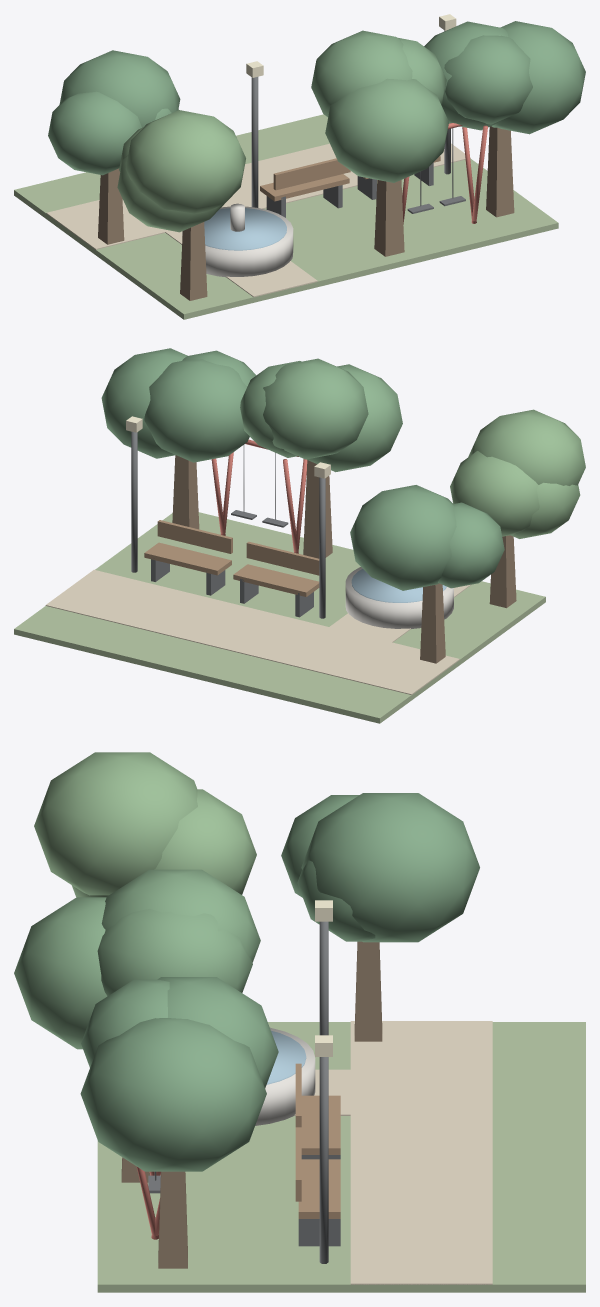
The model's file is salida.plaza.fbx.
The picture shows the model from 3 angles, top to bottom: view 1: azimuth 30°, elevation 25°; view 2: azimuth 150°, elevation 25°; view 3: azimuth 270°, elevation 25°; orthographic projection. The views are drawn at different scales.
Visible parts, largest first — view 1: Suelo, Copa.003, Copa.006, Copa.002, Copa.001, Copa.009, Camino, Copa.010, Copa.005, Pileta, Agua, Copa.007 (+13 smaller); view 2: Suelo, Camino, Copa.010, Copa, Copa.005, Copa.006, Copa.008, Copa.001, Copa.003, Copa.009, Pileta, Copa.004 (+15 smaller); view 3: Suelo, Camino, Copa.001, Copa.010, Copa.006, Copa.003, Copa.004, Copa.005, Copa.008, Copa, Copa.002, Camino.001 (+11 smaller).
Boxes of the visible parts, bbox=[...] form: Suelo: bbox=[14, 114, 558, 319]; Copa.003: bbox=[325, 78, 448, 182]; Copa.006: bbox=[125, 110, 245, 213]; Copa.002: bbox=[444, 35, 532, 124]; Copa.001: bbox=[491, 21, 585, 134]; Copa.009: bbox=[48, 91, 141, 175]; Camino: bbox=[46, 143, 470, 249]; Copa.010: bbox=[59, 50, 180, 127]; Copa.005: bbox=[311, 30, 412, 117]; Pileta: bbox=[182, 206, 293, 277]; Agua: bbox=[204, 208, 286, 250]; Copa.007: bbox=[117, 155, 224, 232]; Suelo: bbox=[14, 512, 545, 723]; Camino: bbox=[45, 569, 459, 694]; Copa.010: bbox=[350, 485, 456, 590]; Copa: bbox=[144, 359, 249, 462]; Copa.005: bbox=[263, 358, 368, 459]; Copa.006: bbox=[468, 409, 585, 485]; Copa.008: bbox=[450, 451, 539, 536]; Copa.001: bbox=[101, 348, 187, 458]; Copa.003: bbox=[306, 364, 402, 472]; Copa.009: bbox=[438, 502, 504, 588]; Pileta: bbox=[345, 567, 453, 628]; Copa.004: bbox=[240, 361, 301, 457]; Suelo: bbox=[97, 1022, 585, 1292]; Camino: bbox=[350, 1021, 492, 1284]; Copa.001: bbox=[80, 1018, 266, 1171]; Copa.010: bbox=[301, 793, 479, 942]; Copa.006: bbox=[34, 752, 197, 895]; Copa.003: bbox=[14, 897, 107, 1049]; Copa.004: bbox=[97, 909, 252, 996]; Copa.005: bbox=[101, 869, 260, 962]; Copa.008: bbox=[154, 789, 256, 894]; Copa: bbox=[157, 977, 278, 1088]; Copa.002: bbox=[81, 979, 169, 1067]; Camino.001: bbox=[294, 1069, 408, 1115].
Size of the model in its own units: 8.6 by 3.78 by 6.44.
